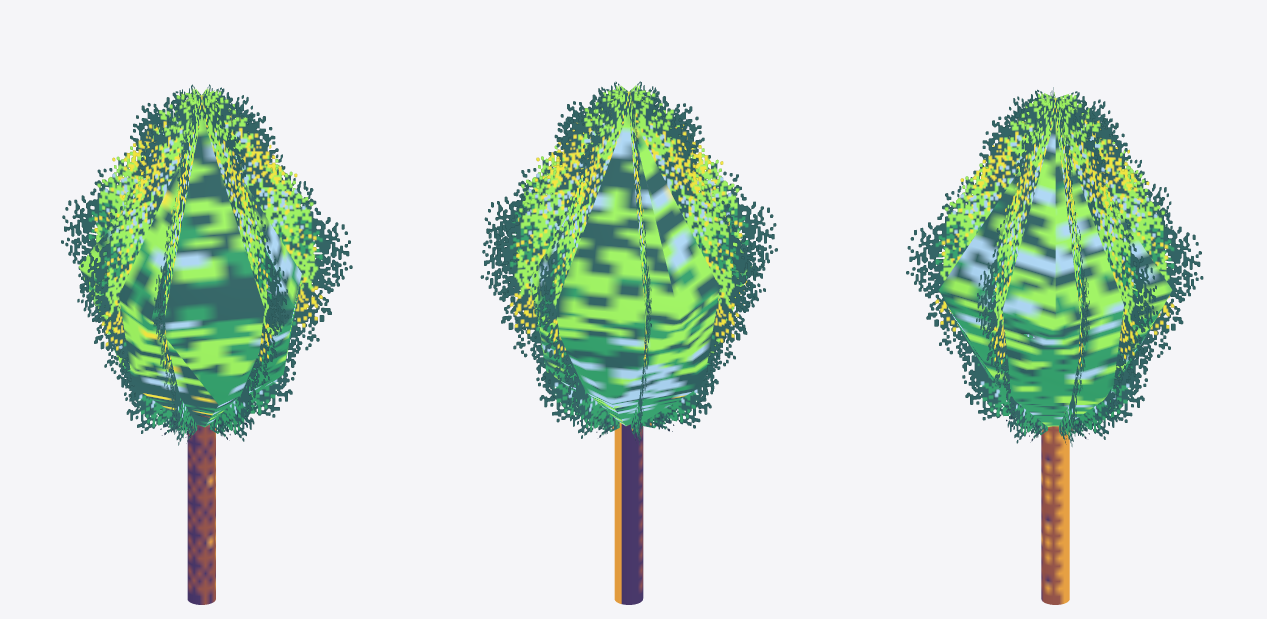
The model's file is yk_puu_3d 1.fbx.
3 renders of one model, left to right at view 1: azimuth 30°, elevation 25°; view 2: azimuth 150°, elevation 25°; view 3: azimuth 270°, elevation 25°, orthographic.
Parts seen in each view (by area): view 1: Icosphere.002, Icosphere; view 2: Icosphere.002, Icosphere; view 3: Icosphere.002, Icosphere.
Boxes of the visible parts, x1,y1,x2,y2 form: Icosphere.002: (61,84,352,445); Icosphere: (187,415,215,604); Icosphere.002: (480,81,777,444); Icosphere: (614,423,643,604); Icosphere.002: (906,87,1203,446); Icosphere: (1041,426,1069,604).
Size of the model in its own units: 295 by 413 by 297.
